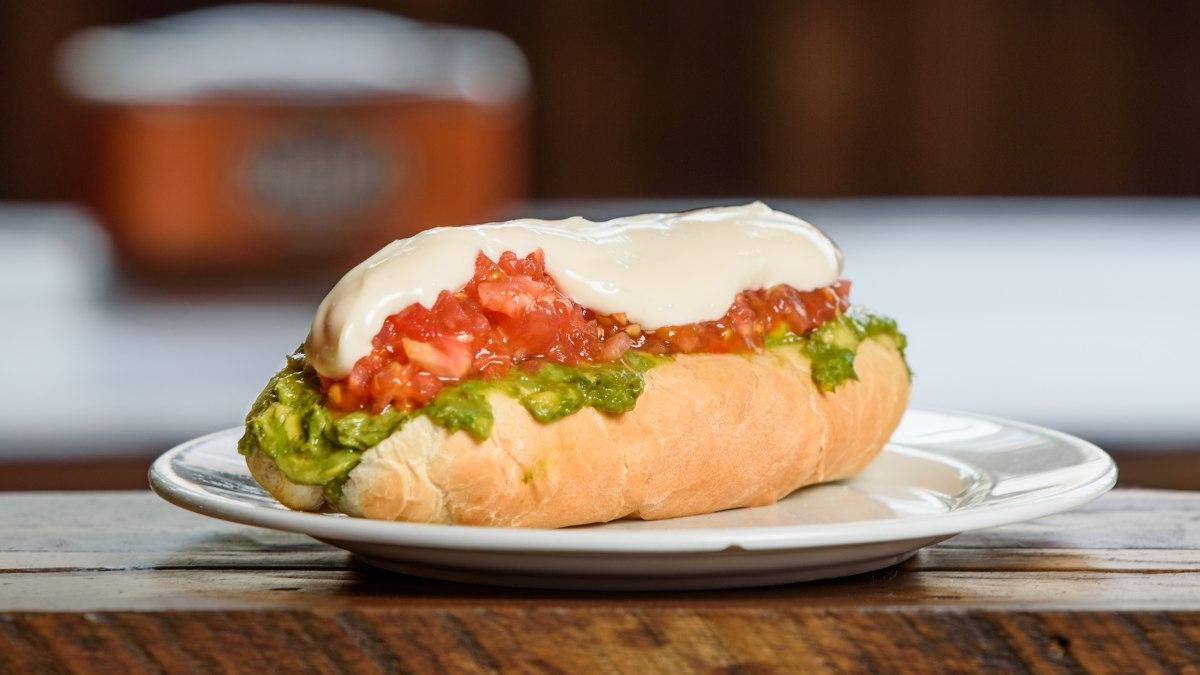Completos: (241, 195, 931, 517)
